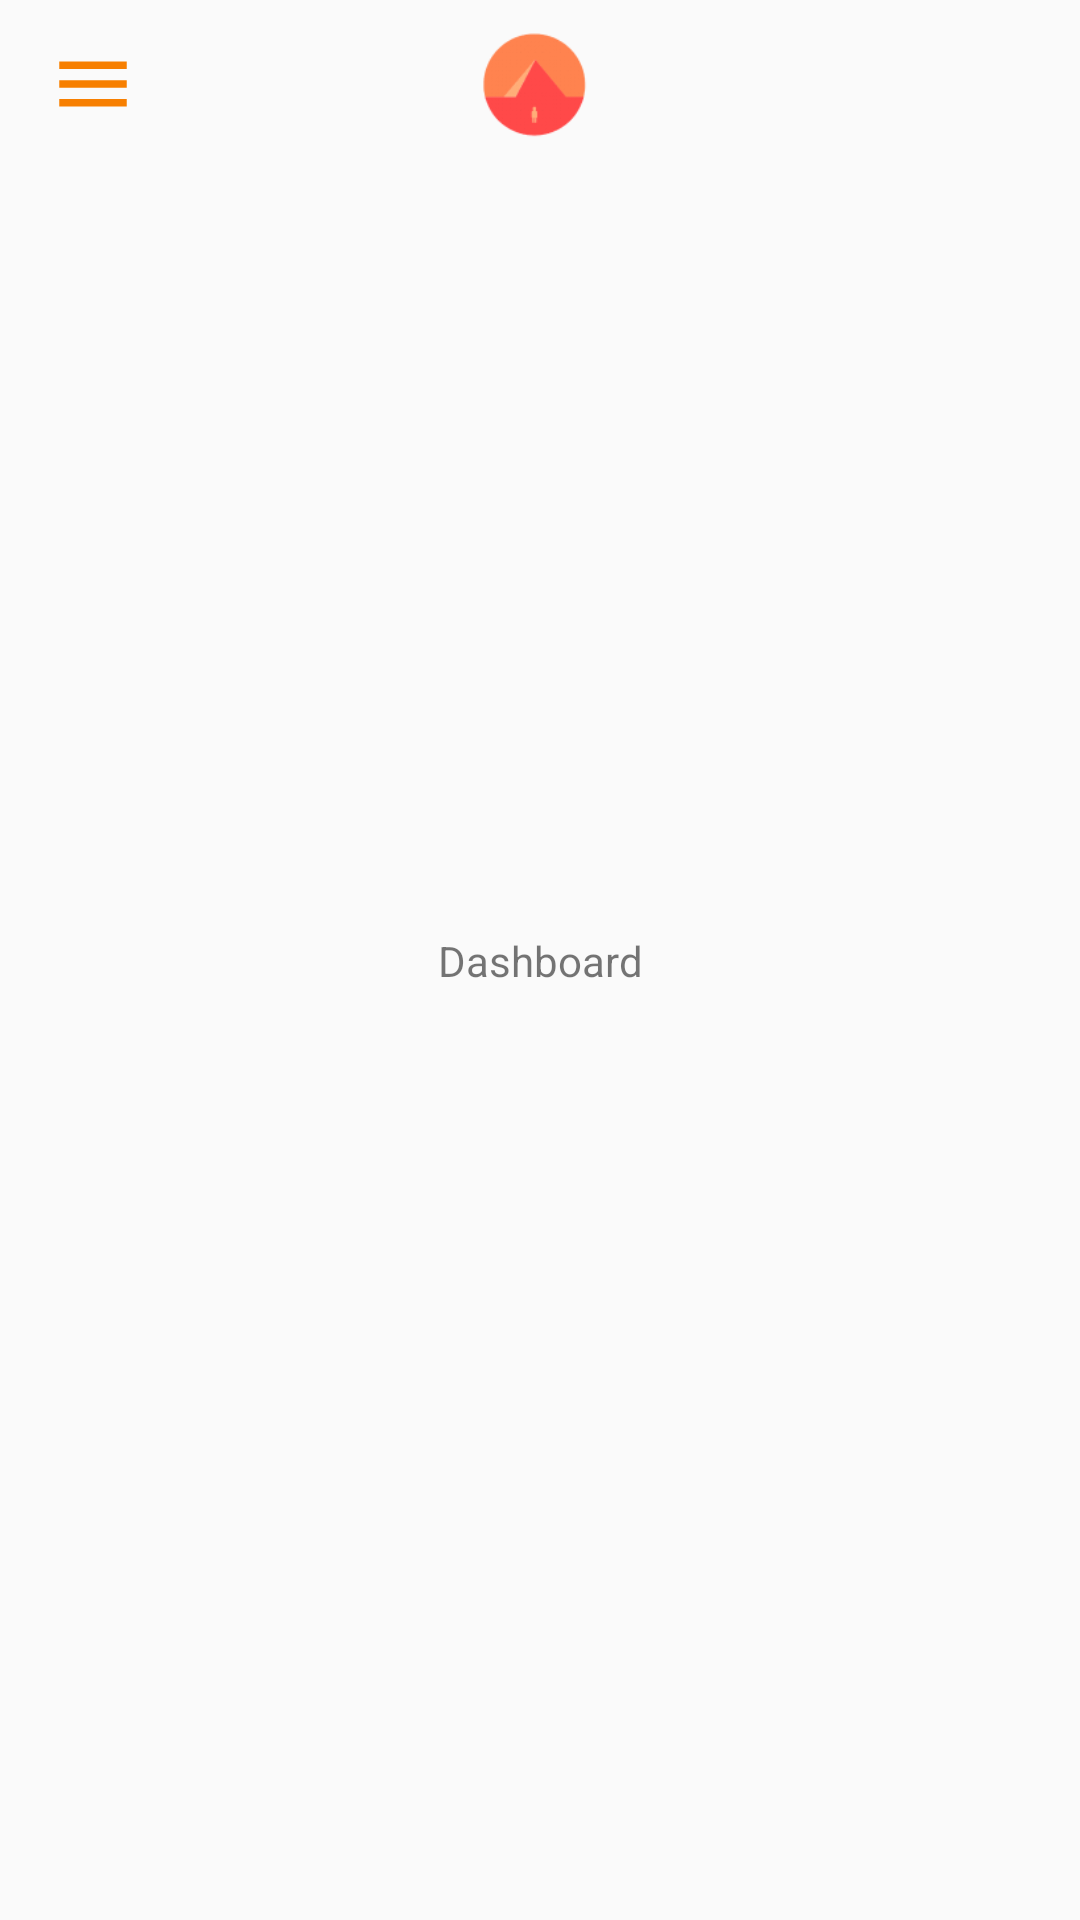

Icons on this 1080w x 1920h Android screen, each with the point to tap as (x,y):
menu: (93,84)
